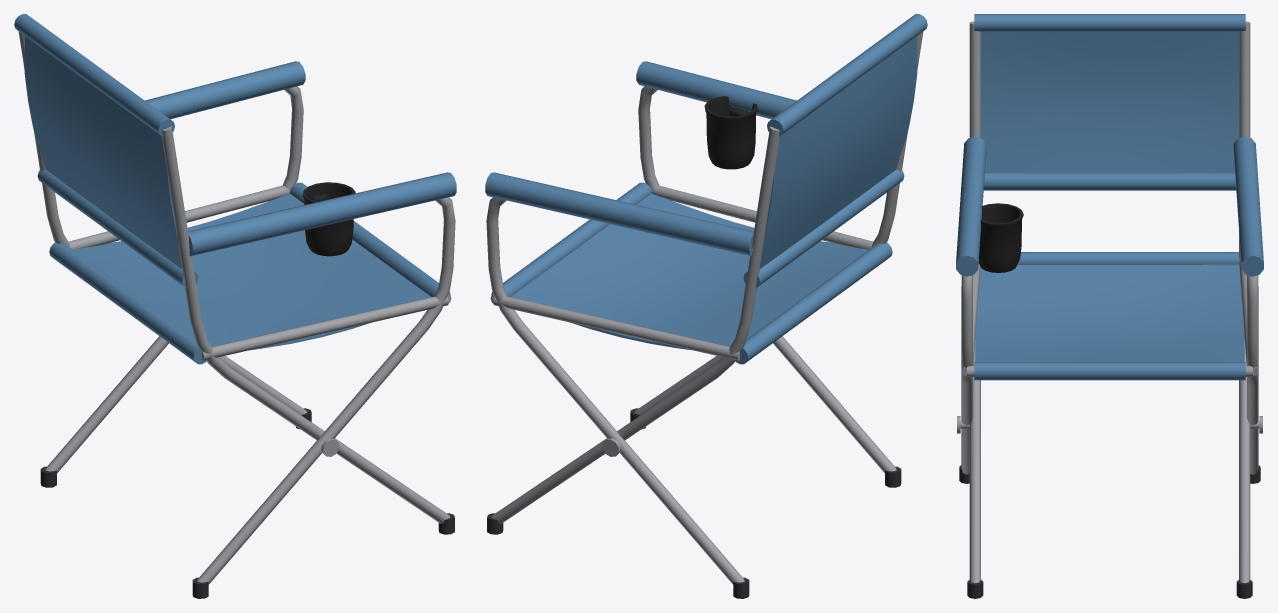
Rendered from camp-chair.glb.
3 views of the same model, side by side, from view 1: azimuth 30°, elevation 25°; view 2: azimuth 150°, elevation 25°; view 3: azimuth 270°, elevation 25° (orthographic). The views are drawn at different scales.
Parts seen in each view (by area): view 1: SM_Jam_CampChair; view 2: SM_Jam_CampChair; view 3: SM_Jam_CampChair.
Part boxes in pixels (x1,y1,x2,y2): SM_Jam_CampChair: (14, 14, 456, 598); SM_Jam_CampChair: (485, 14, 927, 598); SM_Jam_CampChair: (956, 14, 1263, 598).
Size of the model in its own units: 0.591 by 0.9165 by 0.5659.
